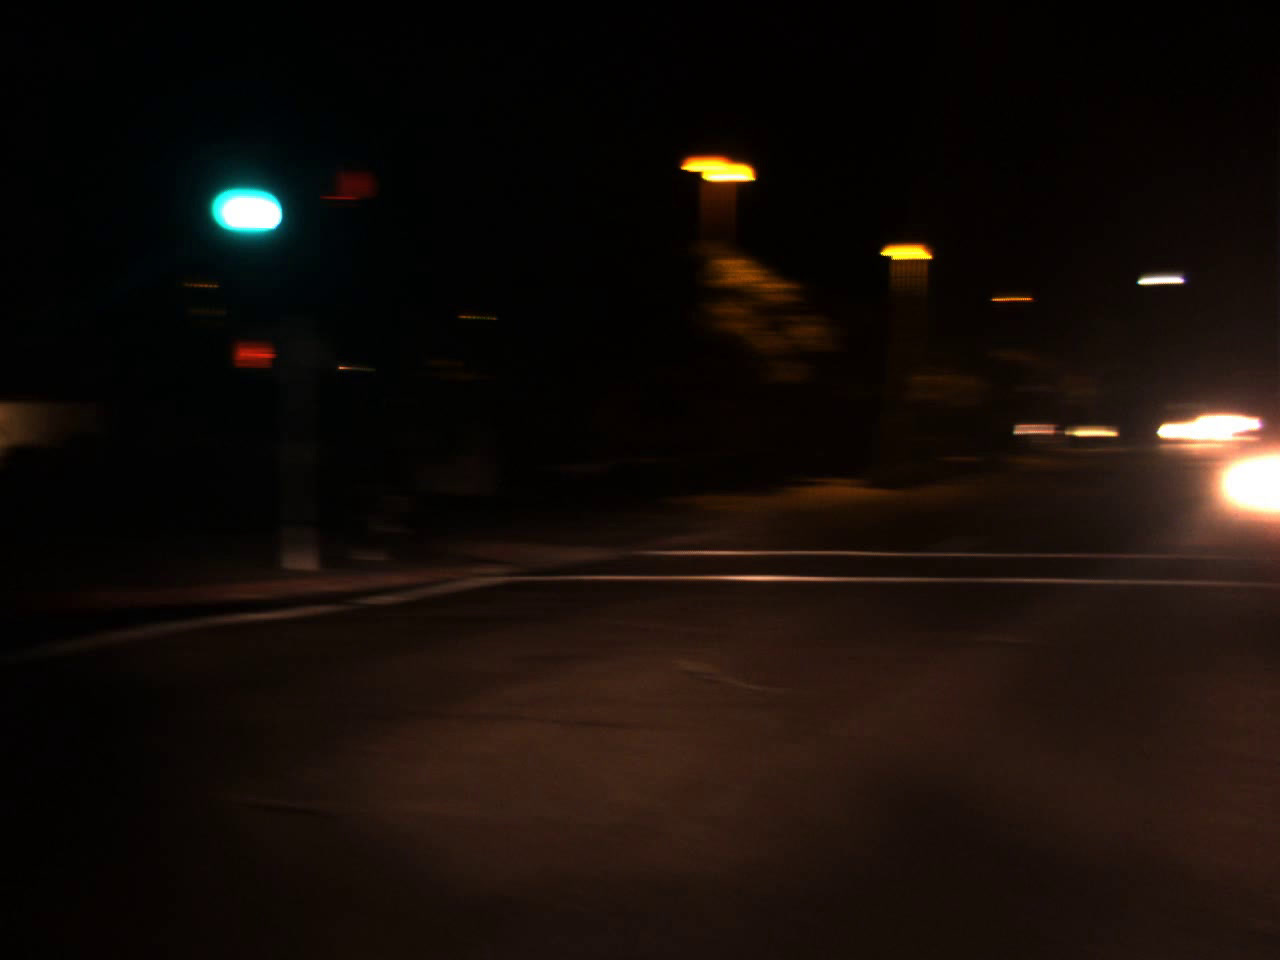go: (201, 132, 292, 249)
